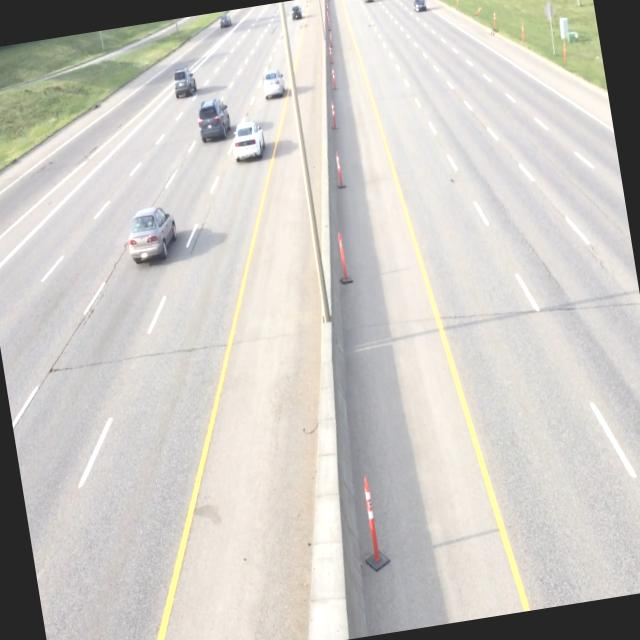Vehicle: (123, 202, 182, 273), (193, 91, 233, 148), (228, 120, 268, 167), (170, 66, 198, 103), (260, 68, 288, 102)
